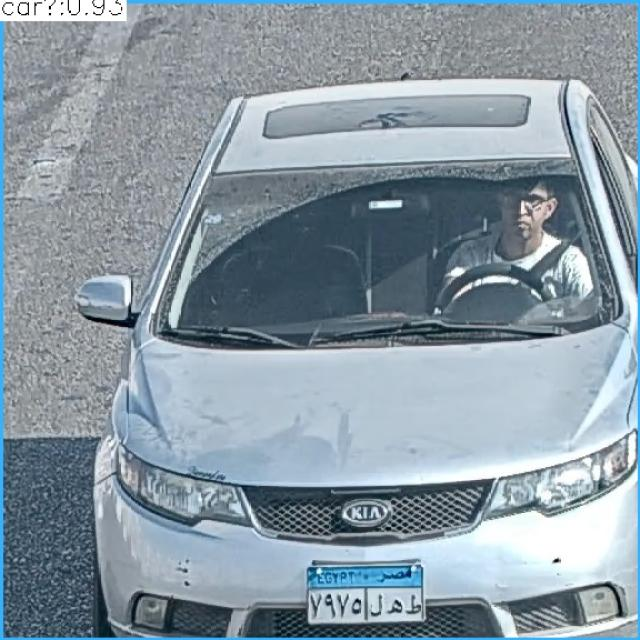windshield: (166, 170, 624, 336)
